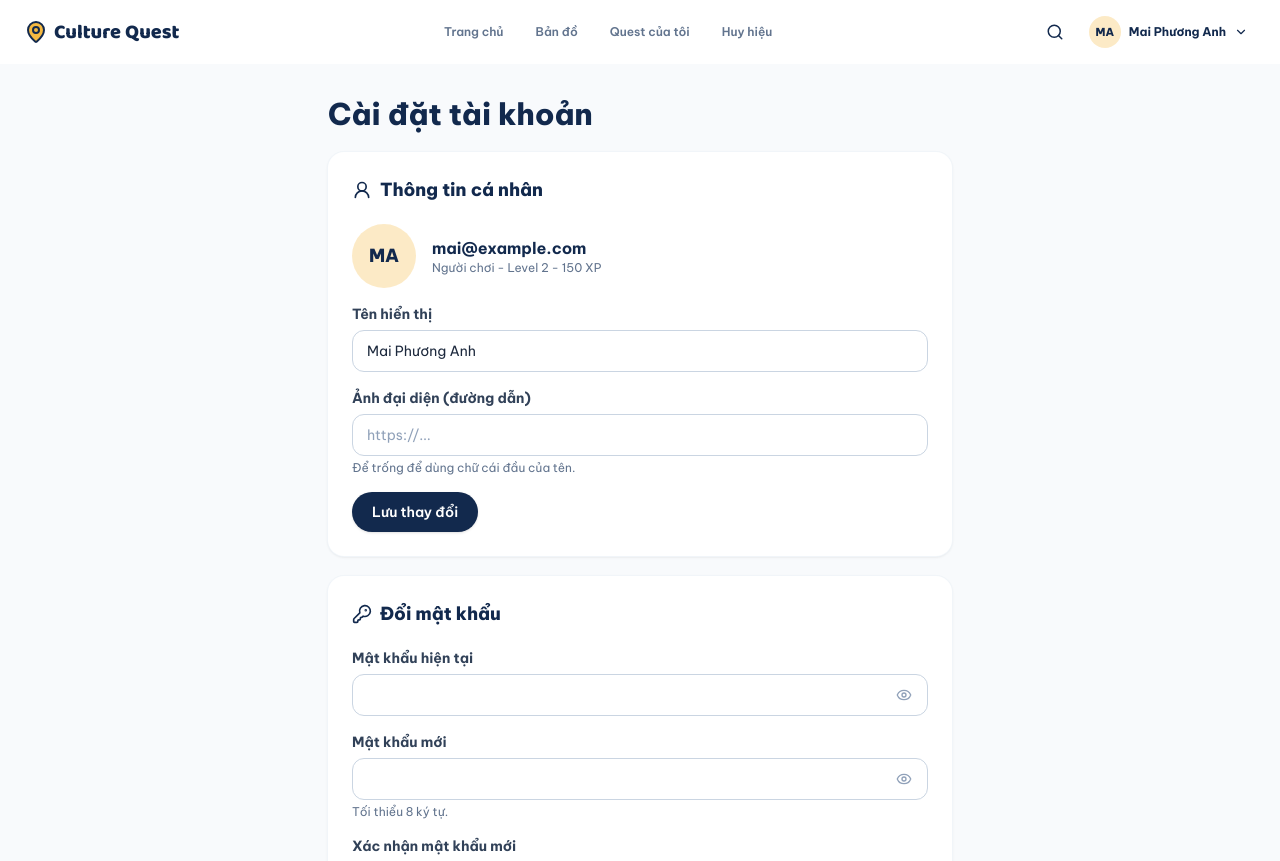
AccountPage › changes the password when the confirmation matches
Type "OldSecret123" into the password field labelled "Mật khẩu hiện tại".
click(640, 695); type("OldSecret123")  # box [352,674,928,716]
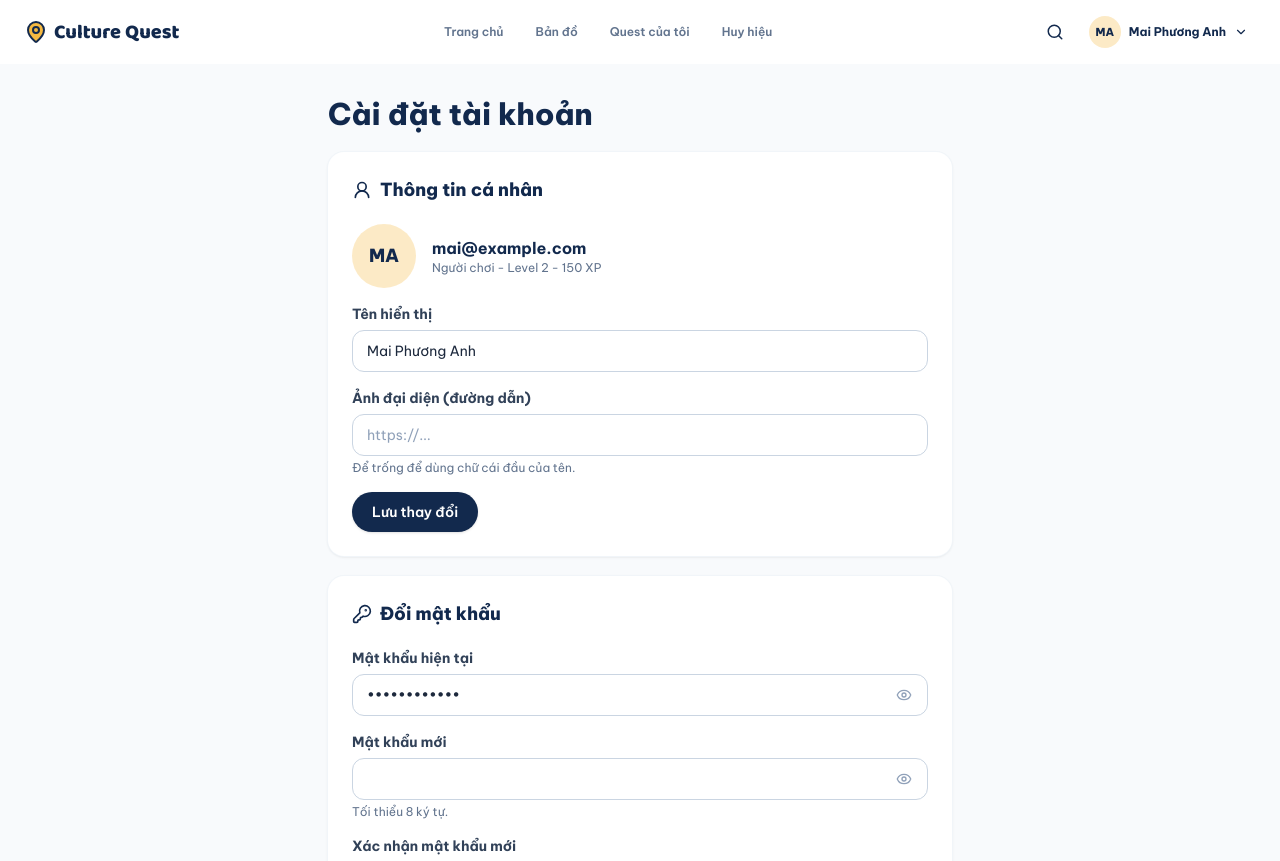
Type "BrandNewSecret456" into the password field labelled "Mật khẩu mới".
click(640, 779); type("BrandNewSecret456")  # box [352,758,928,800]
(page scrolled)
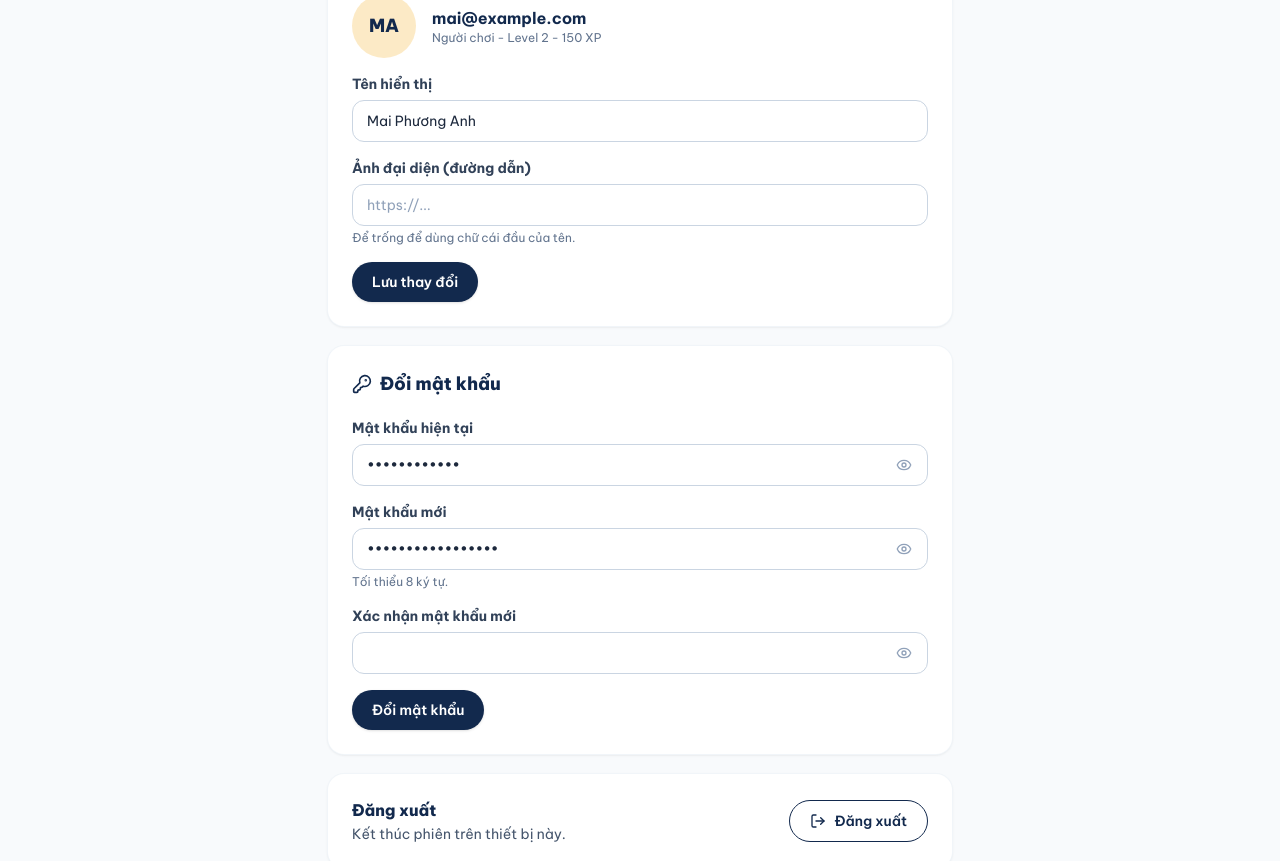
Type "BrandNewSecret456" into the password field labelled "Xác nhận mật khẩu mới".
click(640, 653); type("BrandNewSecret456")  # box [352,632,928,674]
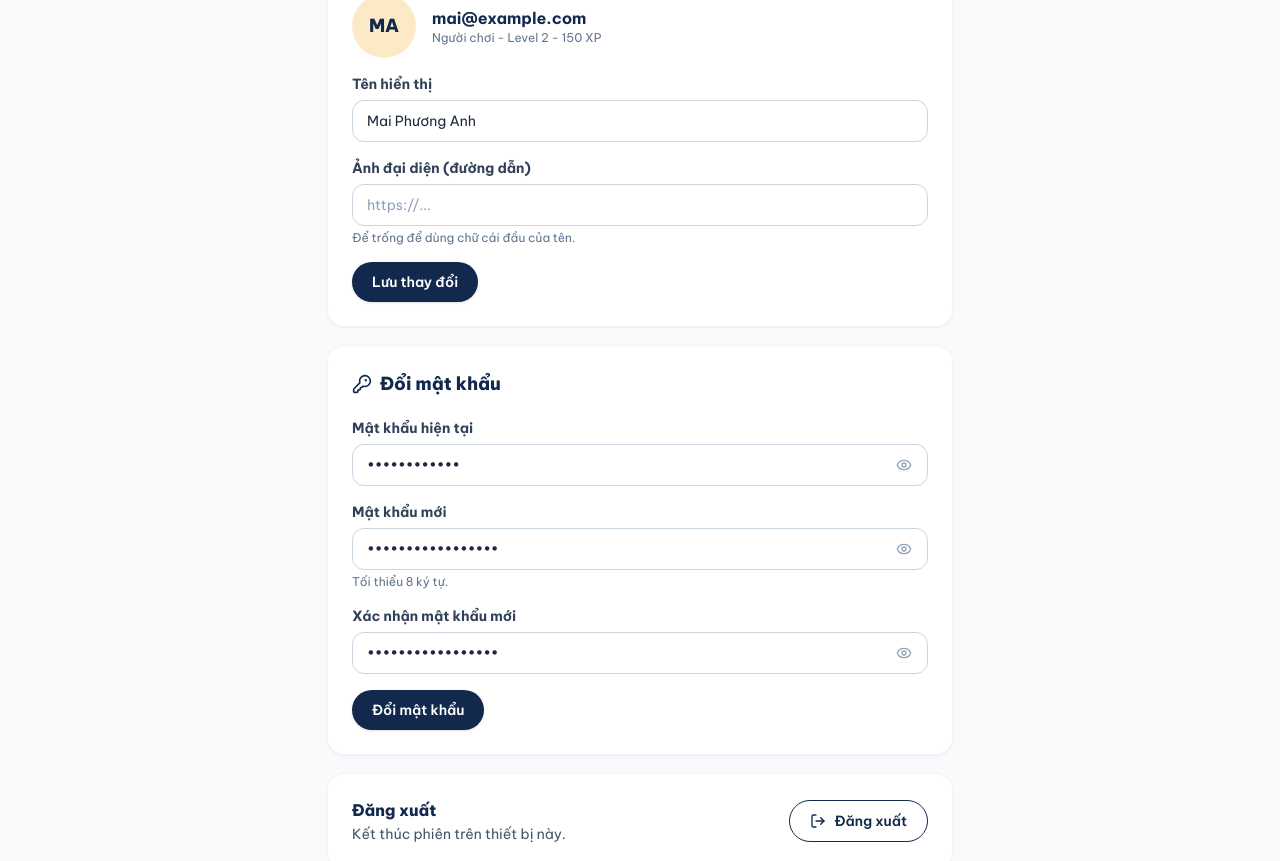
Click the button "Đổi mật khẩu".
click(418, 710)  # box [352,690,484,730]
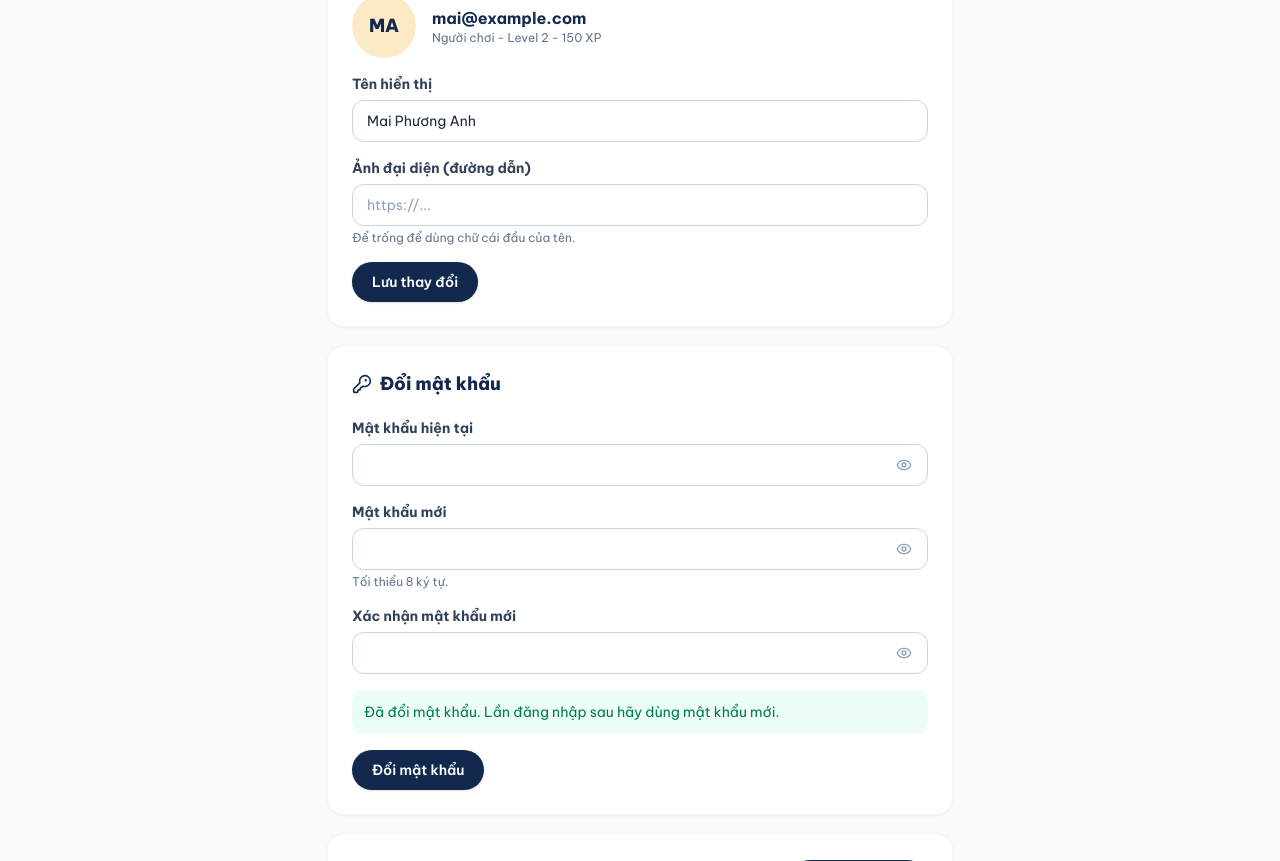
Check: the message shows "Đã đổi mật khẩu", box [364,703,779,721]
